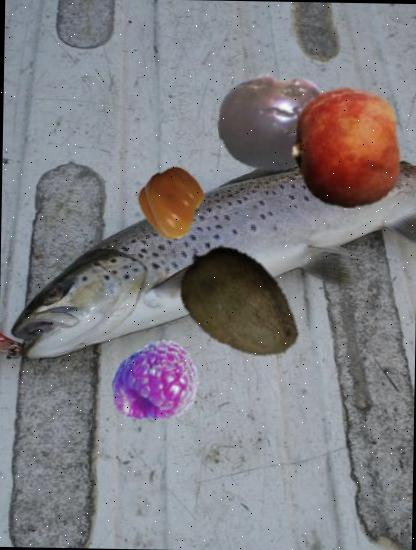Papaya: (169, 234, 308, 374)
Passion: (216, 62, 334, 181)
Peach: (282, 86, 407, 210)
Pepper: (139, 168, 208, 237)
Raspberry: (107, 337, 203, 433)
